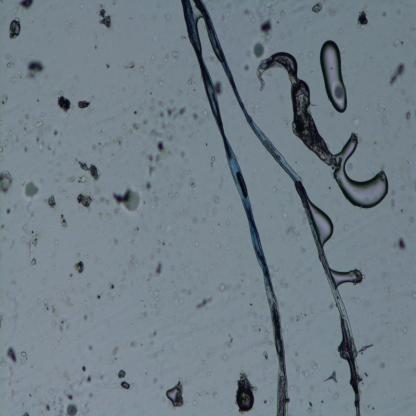Air bubble: (332, 133, 390, 208), (318, 39, 348, 114), (310, 203, 334, 244), (332, 268, 362, 284), (165, 387, 180, 402)
Background material: (182, 0, 290, 414), (111, 188, 141, 213), (147, 144, 168, 178), (49, 303, 71, 333), (45, 382, 65, 415), (250, 308, 270, 341), (22, 230, 39, 268), (134, 94, 161, 117), (119, 252, 139, 283), (157, 102, 187, 122), (282, 221, 305, 246), (241, 3, 268, 24), (147, 124, 175, 143), (126, 118, 149, 139), (78, 160, 101, 181), (389, 62, 406, 89), (285, 311, 312, 327), (29, 382, 43, 412), (26, 60, 46, 80), (126, 223, 142, 248), (145, 283, 162, 306), (194, 387, 219, 402), (24, 179, 40, 202), (302, 357, 318, 380), (56, 91, 71, 115), (0, 168, 13, 195), (98, 6, 112, 31), (117, 367, 132, 390), (354, 9, 370, 30), (21, 201, 33, 229), (306, 386, 318, 414), (191, 106, 203, 134), (8, 16, 22, 40), (6, 368, 16, 401), (376, 104, 390, 127), (182, 206, 199, 224), (194, 295, 214, 310), (18, 112, 31, 135), (108, 342, 120, 366), (3, 126, 18, 145), (0, 50, 14, 70), (151, 260, 165, 280), (160, 187, 180, 201), (348, 293, 371, 305), (148, 187, 160, 210), (77, 192, 93, 209), (324, 368, 340, 385), (236, 371, 252, 388), (178, 258, 192, 277), (5, 345, 18, 365), (79, 364, 92, 384), (34, 135, 49, 152), (52, 166, 66, 184), (73, 257, 86, 276), (90, 142, 106, 157), (153, 71, 168, 87), (263, 0, 282, 12), (148, 375, 164, 389), (259, 393, 275, 407), (262, 20, 272, 42), (220, 282, 240, 293), (62, 370, 74, 388), (158, 240, 170, 258), (253, 42, 265, 60), (46, 193, 57, 211), (175, 146, 187, 162), (361, 401, 375, 414), (97, 195, 112, 207), (121, 61, 137, 72), (59, 213, 69, 230), (224, 334, 234, 351), (82, 308, 94, 322), (78, 98, 92, 110), (396, 237, 407, 252), (215, 78, 224, 96), (138, 304, 148, 320), (383, 286, 393, 302), (90, 32, 98, 52), (187, 170, 195, 190), (64, 17, 76, 30), (279, 206, 289, 221), (2, 205, 14, 217), (173, 292, 185, 304), (312, 2, 324, 14), (359, 252, 370, 265), (87, 292, 100, 303), (218, 7, 231, 18), (235, 249, 245, 263), (146, 330, 156, 344), (20, 0, 34, 10), (22, 142, 32, 156), (163, 8, 173, 22), (172, 46, 180, 63), (151, 223, 163, 234), (50, 126, 61, 138), (392, 37, 405, 47), (128, 338, 141, 348), (63, 296, 73, 309), (150, 49, 158, 65), (161, 50, 170, 64), (64, 390, 75, 401), (182, 283, 192, 295), (37, 110, 49, 120), (56, 185, 68, 195), (78, 404, 88, 416), (207, 341, 214, 358), (138, 61, 147, 74), (111, 234, 120, 247), (404, 108, 412, 122), (68, 403, 78, 414), (334, 24, 344, 35), (1, 94, 10, 106), (46, 144, 55, 156), (20, 348, 28, 361), (111, 137, 124, 145), (330, 390, 339, 401), (291, 384, 300, 395), (242, 60, 249, 74), (226, 200, 233, 214), (42, 295, 49, 309), (390, 200, 398, 212), (174, 84, 182, 96), (79, 174, 88, 184), (0, 316, 6, 331), (220, 174, 226, 189), (280, 280, 289, 290), (9, 239, 17, 250), (68, 173, 76, 184), (108, 280, 115, 292), (210, 207, 219, 216), (28, 362, 38, 370), (0, 356, 8, 366), (10, 276, 18, 286), (379, 359, 386, 370), (35, 121, 44, 129), (212, 195, 220, 204), (308, 50, 316, 59), (379, 10, 388, 18), (288, 191, 293, 205), (261, 350, 268, 360), (128, 319, 135, 329), (0, 144, 6, 155), (38, 20, 46, 28), (399, 183, 406, 192), (343, 223, 350, 232), (209, 226, 215, 236), (279, 9, 285, 19), (146, 184, 153, 192), (222, 355, 229, 363), (51, 238, 58, 246), (210, 155, 215, 166), (96, 212, 102, 221), (193, 238, 199, 247), (88, 390, 94, 399), (271, 185, 277, 194), (170, 260, 175, 270), (103, 61, 110, 68), (215, 242, 222, 249), (396, 7, 402, 15), (77, 1, 83, 9), (0, 224, 6, 232), (280, 184, 286, 192), (404, 95, 410, 103), (74, 250, 80, 258), (188, 78, 194, 86), (89, 342, 94, 351), (200, 360, 206, 367), (68, 273, 72, 283), (391, 188, 395, 197), (11, 76, 17, 82), (181, 35, 187, 41), (111, 0, 117, 6), (2, 235, 8, 241), (22, 412, 29, 416), (400, 207, 404, 214), (370, 57, 374, 63), (226, 220, 230, 226), (121, 124, 125, 129), (10, 268, 13, 274), (248, 302, 252, 306), (296, 349, 298, 356), (207, 372, 210, 376)
Cellulose filter fibre: (255, 52, 334, 164)
Cotton: (194, 1, 362, 415)
Diatom: (234, 388, 255, 412)
